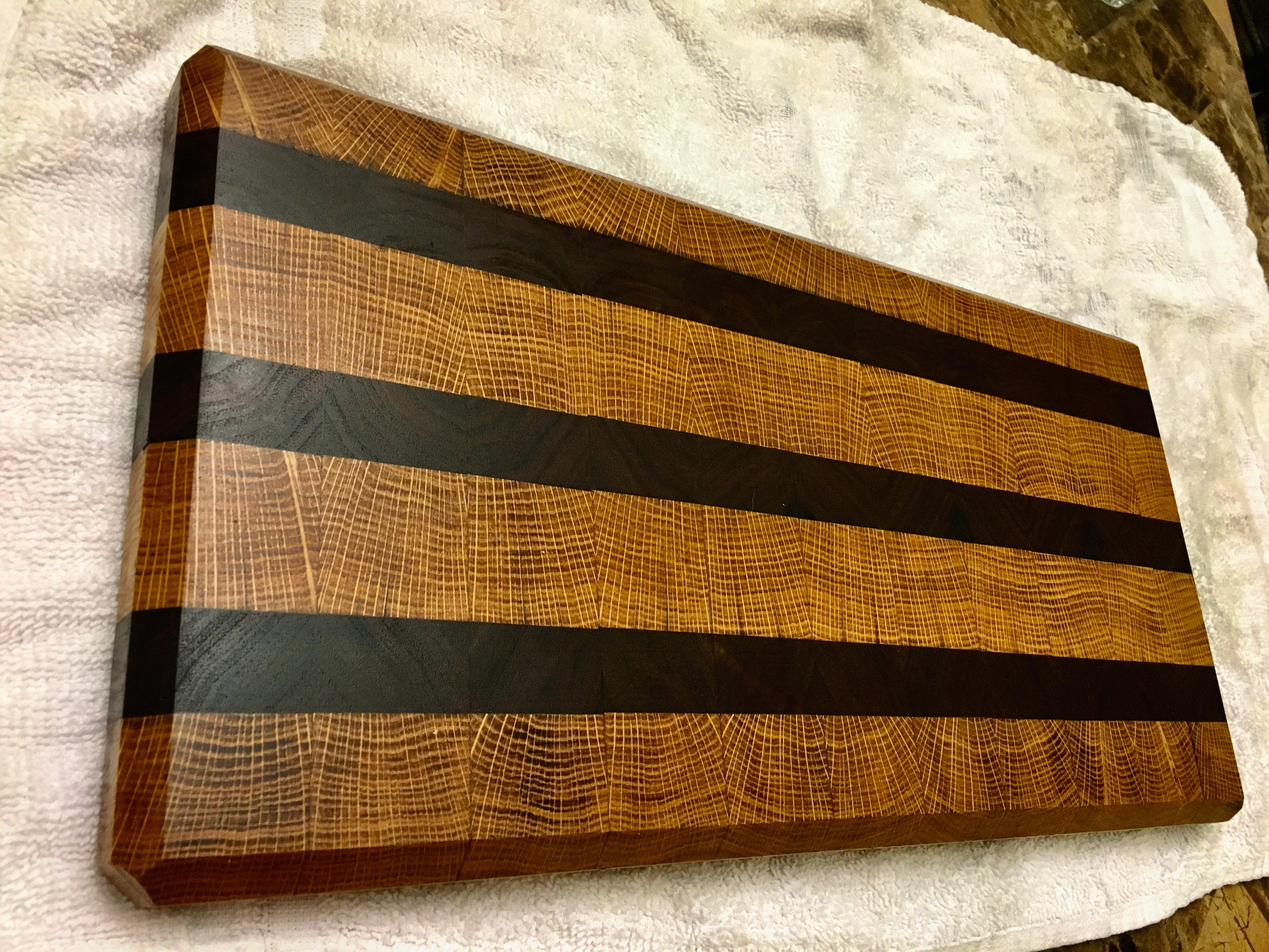gloved_hand: (111, 29, 1256, 888)
